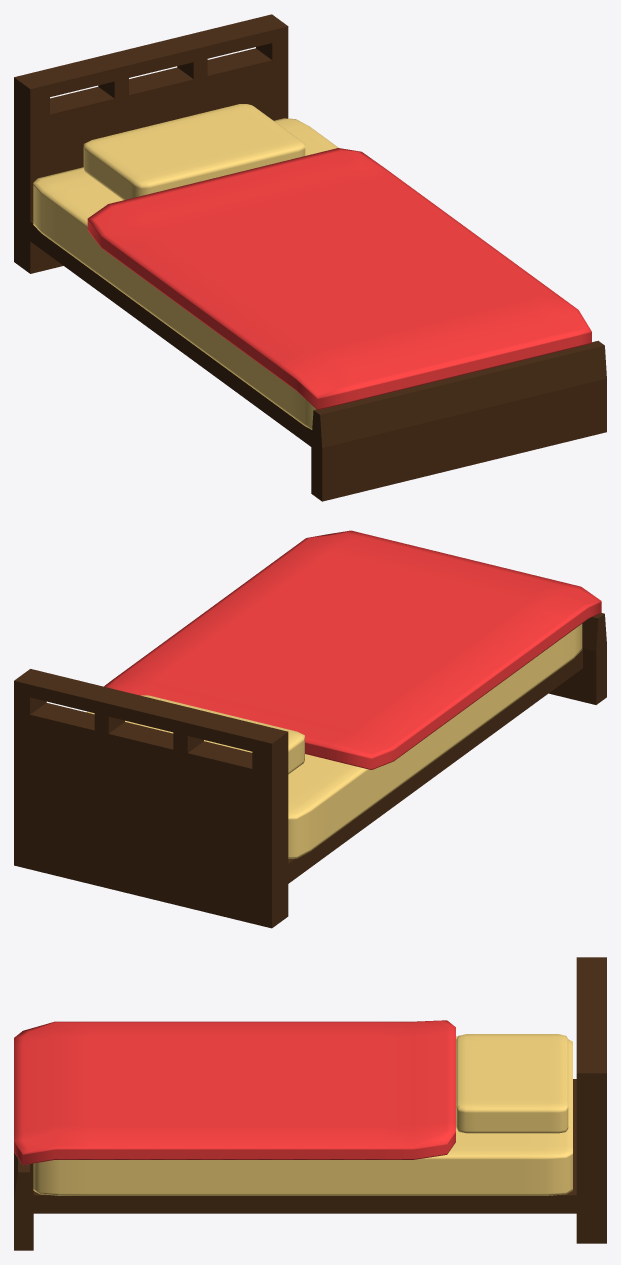
File: BedComplete.FBX
3 views of the same model, one above another, from view 1: azimuth 30°, elevation 25°; view 2: azimuth 150°, elevation 25°; view 3: azimuth 270°, elevation 25° (orthographic). The views are drawn at different scales.
Visible parts, largest first — view 1: BedCover, BedFrame, BedPillow, BedMat; view 2: BedCover, BedFrame, BedMat, BedPillow; view 3: BedCover, BedMat, BedFrame, BedPillow.
Part boxes in pixels (x1,y1,x2,y2): BedCover: (87,148,591,409); BedFrame: (14,14,606,501); BedPillow: (83,104,305,200); BedMat: (33,118,338,429); BedCover: (104,530,601,769); BedFrame: (14,613,606,928); BedMat: (86,624,582,858); BedPillow: (125,695,304,774); BedCover: (14,1020,455,1165); BedMat: (33,1036,572,1195); BedFrame: (14,957,606,1250); BedPillow: (456,1034,568,1133).
Bounding box in the file's own units: 400 × 246 × 772.
